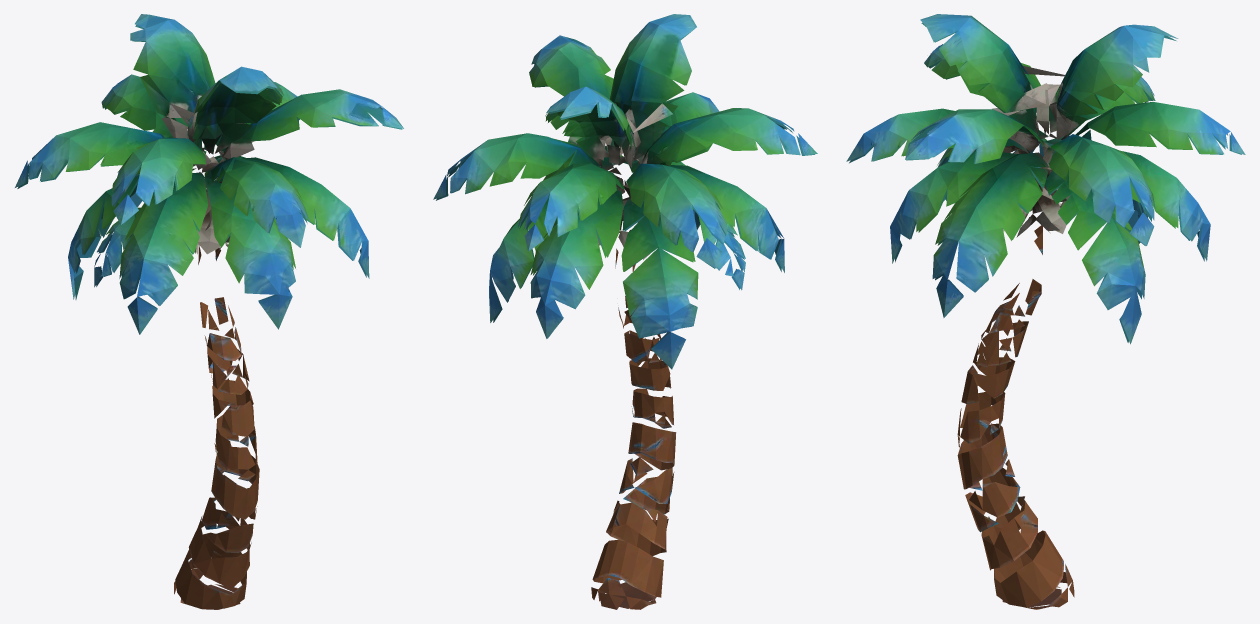
Rendered from tree_palm_LOD1.glb.
3 renders of one model, left to right at view 1: azimuth 30°, elevation 25°; view 2: azimuth 150°, elevation 25°; view 3: azimuth 270°, elevation 25°, orthographic. The views are drawn at different scales.
Parts seen in each view (by area): view 1: tree_palm_LOD1; view 2: tree_palm_LOD1; view 3: tree_palm_LOD1.
Boxes of the visible parts, bbox=[...] form: tree_palm_LOD1: bbox=[15, 14, 403, 609]; tree_palm_LOD1: bbox=[433, 14, 817, 609]; tree_palm_LOD1: bbox=[846, 14, 1245, 609].
Size of the model in its own units: 0.5381 by 0.9961 by 0.6243.
1 material, 1 textured.
